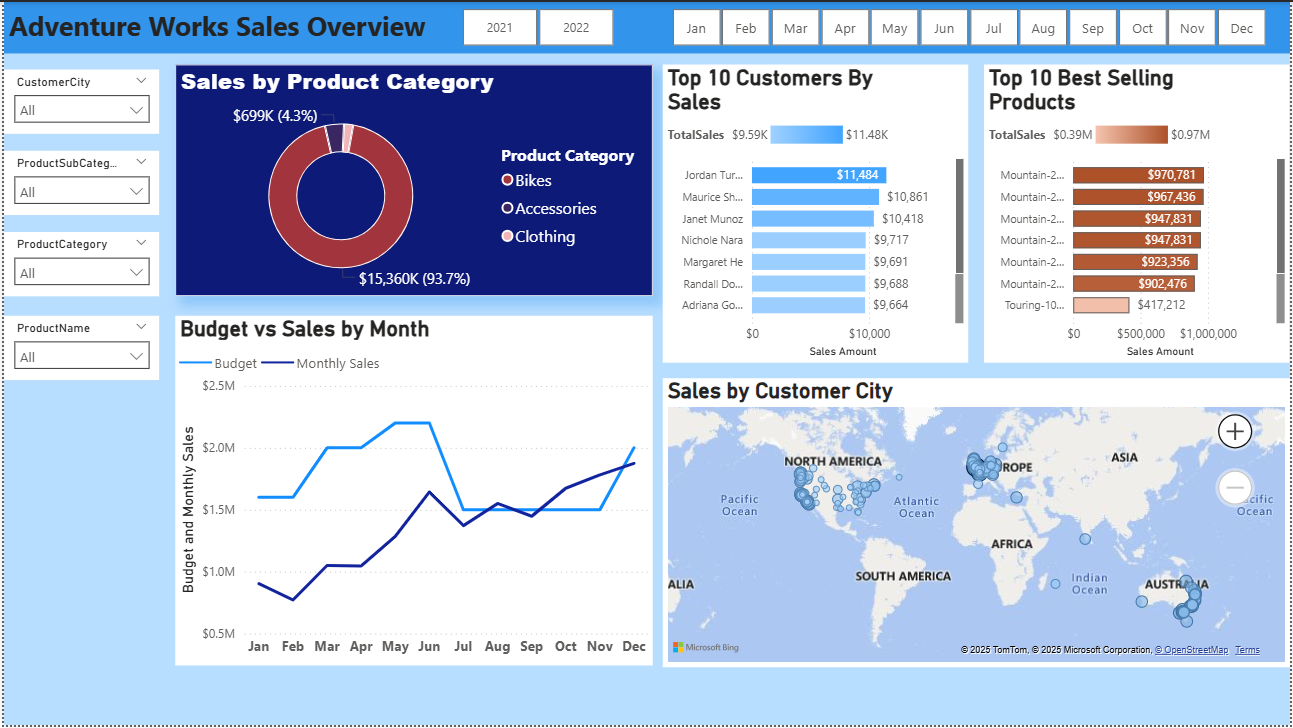

Layout of this report page (visuals, bound fields, positions):
{"tool":"powerbi","page":{"name":"Sales Overview","canvas":[1280,720],"ordinal":0},"visuals":[{"type":"textbox","box":[0,0,1280,51],"z":0},{"type":"slicer","fields":{"Values":["DimCustomer.CustomerCity"]},"box":[0,67.2,154.5,63.8],"z":1000},{"type":"slicer","fields":{"Values":["DimProduct.ProductSubCategory"]},"box":[0,147.8,154.5,63.8],"z":2000},{"type":"slicer","fields":{"Values":["DimProduct.ProductCategory"]},"box":[0,228.5,154.5,63.8],"z":3000},{"type":"slicer","fields":{"Values":["DimProduct.ProductName"]},"box":[0,312.4,154.5,63.8],"z":4000},{"type":"slicer","fields":{"Values":["DimDate.Year"]},"box":[431,0,200,50],"z":5000},{"type":"slicer","fields":{"Values":["DimDate.MonthShort"]},"box":[640,0,640,50],"z":6000},{"type":"donutChart","title":"Sales by Product Category","fields":{"Category":["DimProduct.ProductCategory"],"Y":["Key Measures.TotalSales"]},"box":[171,62.7,475.3,230.6],"z":7000},{"type":"lineChart","title":"Budget vs Sales by Month","fields":{"Y":["Key Measures.TotalBudget","Key Measures.TotalSales"],"Category":["DimDate.MonthShort"]},"box":[171,312.2,475.3,348.2],"z":8000},{"type":"barChart","title":"Top 10 Customers By Sales","fields":{"Y":["Key Measures.TotalSales"],"Category":["DimCustomer.Full Name"]},"box":[655.7,62.7,304.3,296.5],"z":9000},{"type":"barChart","title":"Top 10 Best Selling Products","fields":{"Y":["Key Measures.TotalSales"],"Category":["DimProduct.ProductName"]},"box":[975.7,62.7,304.3,296.5],"z":10000},{"type":"map","title":"Sales by Customer City","fields":{"Category":["DimCustomer.CustomerCity"],"Size":["Key Measures.TotalSales"]},"box":[655.7,374.9,624.3,287.1],"z":11000}]}

Visuals, with their boxes in screenshot pixels (x1, y1, x2, y2), scaled from the page's 1280x720 canvas onto the 1293x728 screenshot:
textbox: rect(0, 0, 1292, 52)
slicer - DimCustomer.CustomerCity: rect(0, 68, 156, 132)
slicer - DimProduct.ProductSubCategory: rect(0, 149, 156, 214)
slicer - DimProduct.ProductCategory: rect(0, 231, 156, 296)
slicer - DimProduct.ProductName: rect(0, 316, 156, 380)
slicer - DimDate.Year: rect(435, 0, 637, 51)
slicer - DimDate.MonthShort: rect(646, 0, 1292, 51)
"Sales by Product Category" donutChart: rect(173, 63, 653, 297)
"Budget vs Sales by Month" lineChart: rect(173, 316, 653, 668)
"Top 10 Customers By Sales" barChart: rect(662, 63, 970, 363)
"Top 10 Best Selling Products" barChart: rect(986, 63, 1292, 363)
"Sales by Customer City" map: rect(662, 379, 1292, 669)
